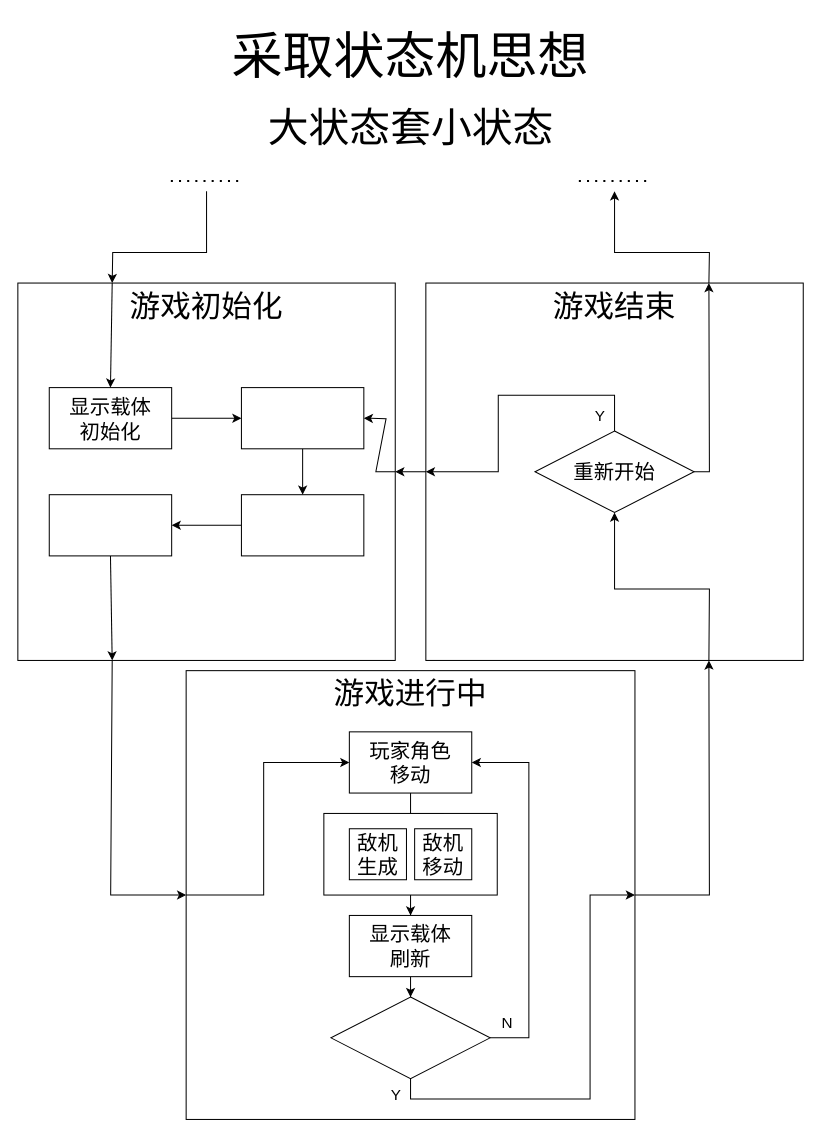
The diagram is 821 pixels wide and 1137 high, and some of its shapes have lost their labels. The box of each missing label's shape, as (x1, y1, x2, y2) in pixels:
游戏参数 初始化: (240, 387, 364, 449)
游戏场景 初始化: (240, 494, 364, 556)
游戏失败: (330, 996, 490, 1079)
玩家角色 初始化: (48, 494, 172, 556)
